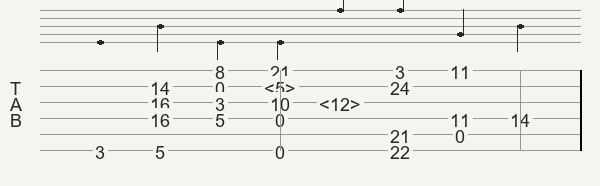0: (215, 78, 229, 95), (275, 142, 289, 159), (275, 110, 289, 127), (455, 126, 469, 143)
10: (270, 94, 294, 111)
11: (450, 62, 474, 79), (450, 110, 474, 127)
14: (150, 78, 174, 95), (510, 110, 534, 127)
16: (150, 94, 174, 111), (150, 110, 174, 127)
21: (270, 62, 294, 79), (390, 126, 414, 143)
22: (390, 142, 414, 159)
24: (390, 78, 414, 95)
3: (95, 142, 109, 159), (215, 94, 229, 111), (395, 62, 409, 79)
5: (155, 142, 169, 159), (215, 110, 229, 127)
8: (215, 62, 229, 79)
harmonic: (319, 94, 365, 111), (264, 78, 300, 95)
